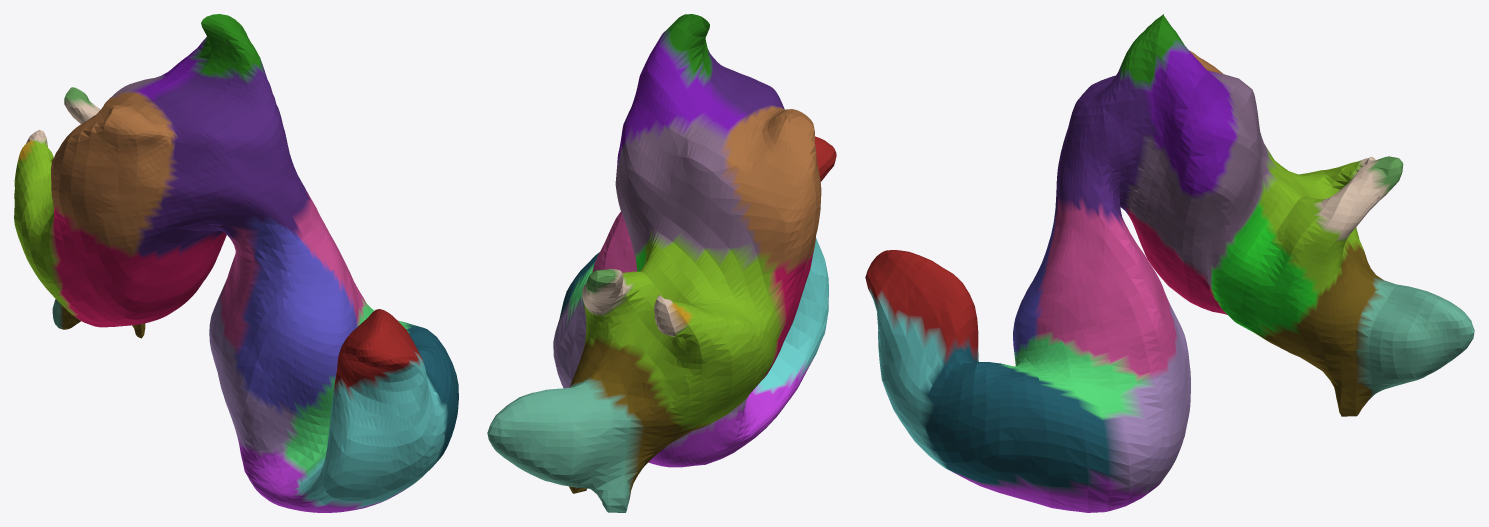
File: fg-00020-geo-color.obj
The picture shows the model from 3 angles, left to right: view 1: azimuth 30°, elevation 25°; view 2: azimuth 150°, elevation 25°; view 3: azimuth 270°, elevation 25°; orthographic projection. The views are drawn at different scales.
Size of the model in its own units: 0.1397 by 0.2041 by 0.2451.
